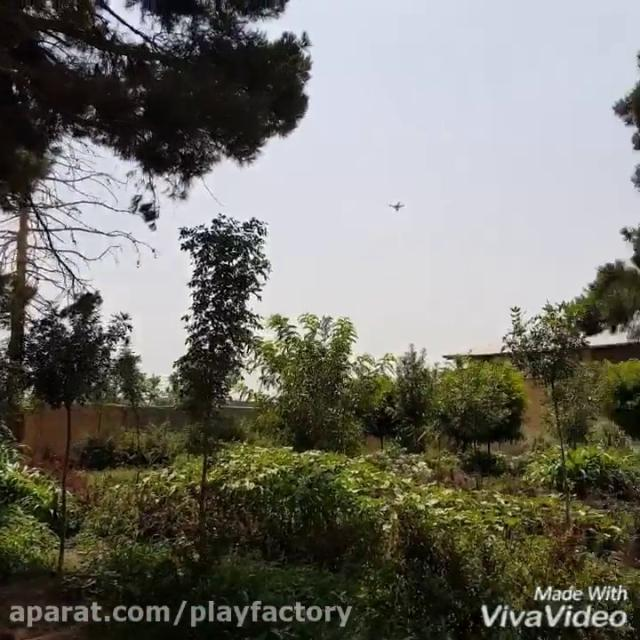drone: (385, 195, 409, 213)
